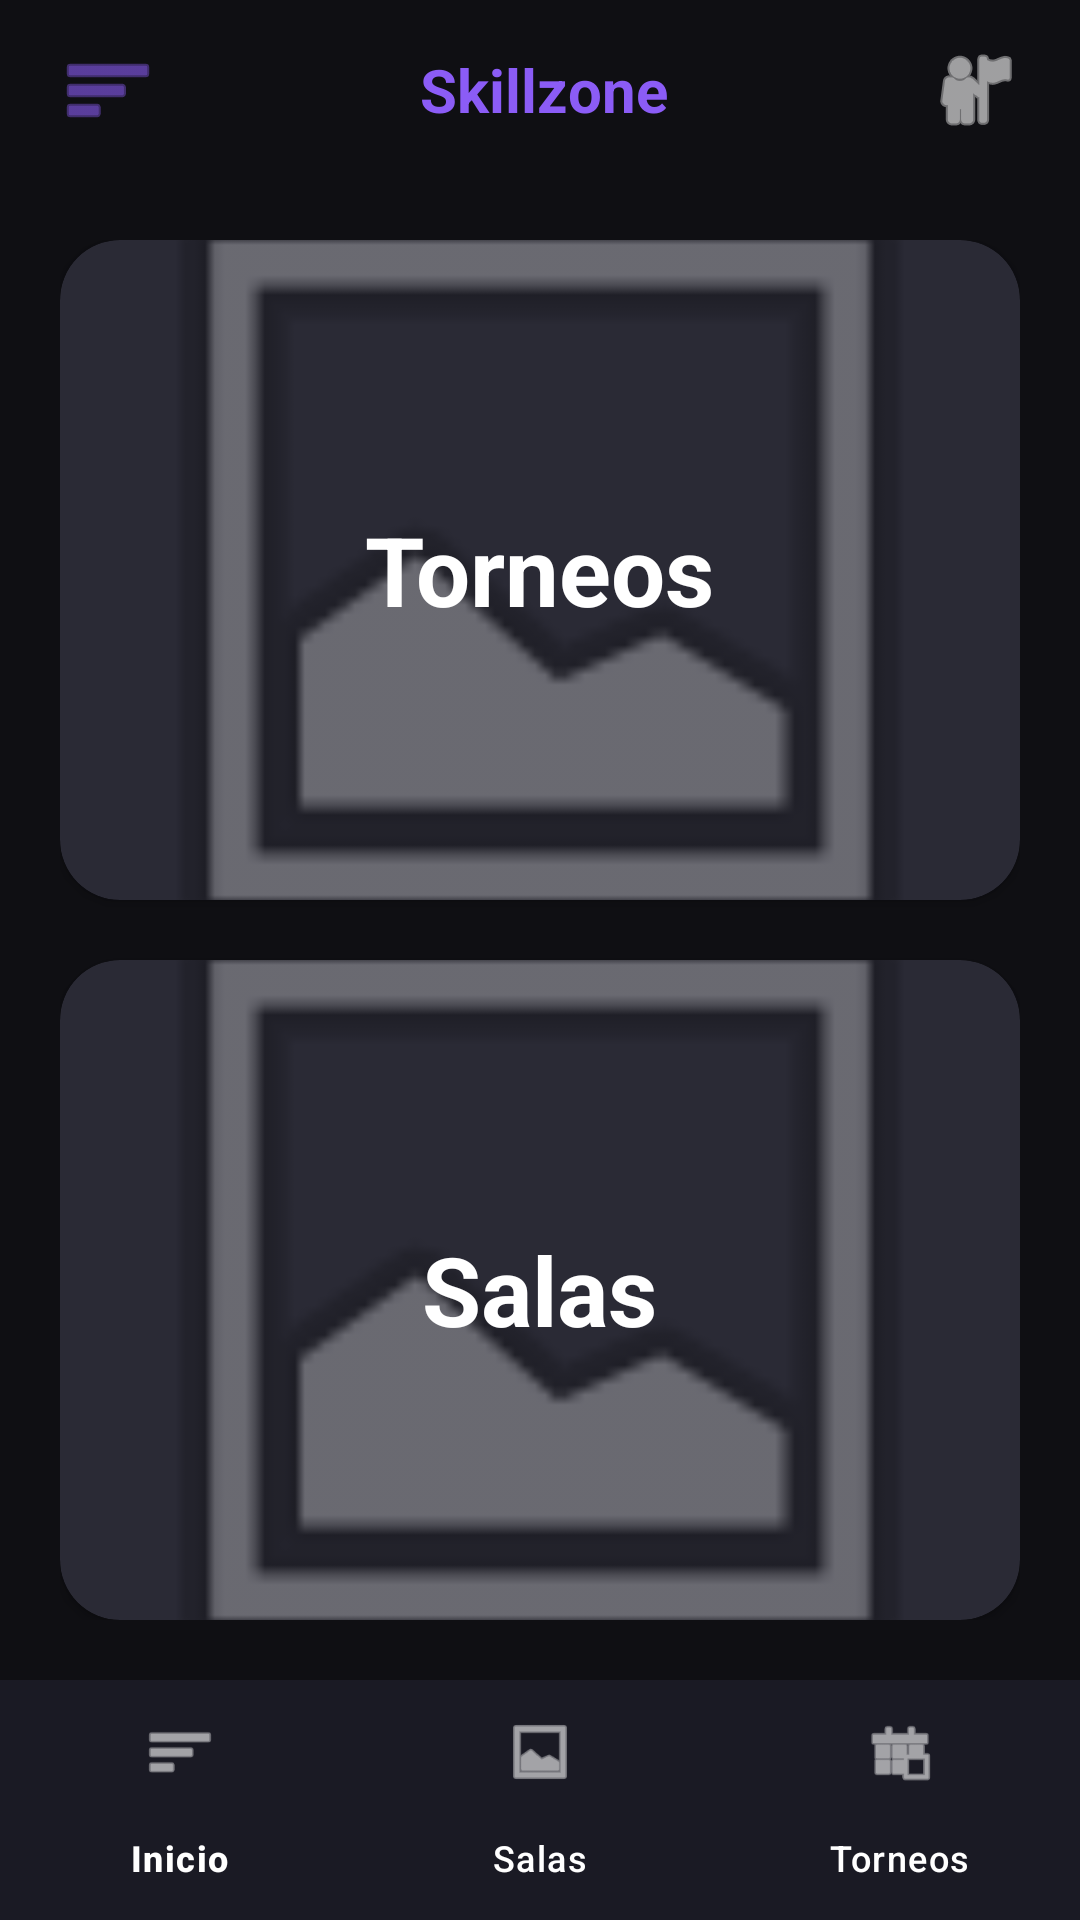

Screen size 1080px x 1920px. Icon name, then its center in pixels as (x=x, y=y):
sort by size: (x=108, y=90)
